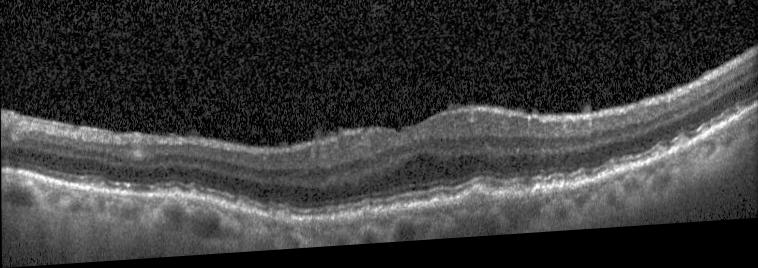retinal_drusen: (461, 197, 488, 211), (76, 181, 105, 193), (726, 117, 747, 133), (603, 172, 629, 184), (507, 191, 527, 202), (573, 182, 592, 193), (231, 203, 246, 216), (360, 209, 377, 220), (267, 212, 285, 222), (531, 190, 547, 201), (654, 156, 669, 167), (676, 146, 690, 157), (550, 187, 568, 195), (188, 190, 199, 202), (432, 199, 446, 208), (168, 189, 181, 198), (701, 137, 710, 146), (712, 130, 719, 139)
